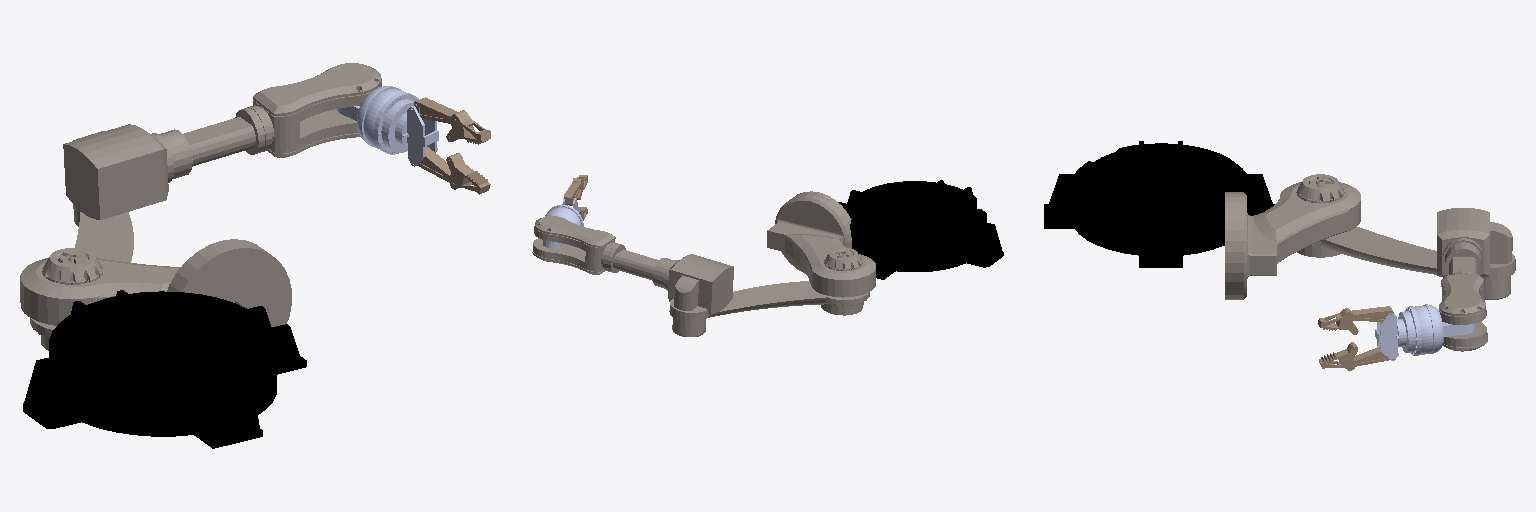
The robot description file, URDF, robot "Assem1":
<?xml version="1.0" encoding="utf-8"?>
<!-- This URDF was automatically created by SolidWorks to URDF Exporter! Originally created by [author] ([email redacted]) 
     Commit Version: 1.6.0-4-g7f85cfe  Build Version: 1.6.7995.38578
     For more information, please see http://wiki.ros.org/sw_urdf_exporter -->
<robot
  name="Assem1">
  <link
    name="base_link">
    <inertial>
      <origin
        xyz="0.001428 -0.045297 -0.0014391"
        rpy="0 0 0" />
      <mass
        value="5.7739" />
      <inertia
        ixx="0.036522"
        ixy="-3.7754E-05"
        ixz="-0.00079982"
        iyy="0.066698"
        iyz="4.1702E-05"
        izz="0.036535" />
    </inertial>
    <visual>
      <origin
        xyz="0 0 0"
        rpy="0 0 0" />
      <geometry>
        <mesh
          filename="package://Assem1/meshes/base_link.STL" />
      </geometry>
      <material
        name="">
        <color
          rgba="0 0 0 1" />
      </material>
    </visual>
    <collision>
      <origin
        xyz="0 0 0"
        rpy="0 0 0" />
      <geometry>
        <mesh
          filename="package://Assem1/meshes/base_link.STL" />
      </geometry>
    </collision>
  </link>
  <link
    name="link_1">
    <inertial>
      <origin
        xyz="-0.05712 0.082882 -0.00044624"
        rpy="0 0 0" />
      <mass
        value="2.3084" />
      <inertia
        ixx="0.011917"
        ixy="0.0090859"
        ixz="-0.00019373"
        iyy="0.016228"
        iyz="9.6387E-05"
        izz="0.023784" />
    </inertial>
    <visual>
      <origin
        xyz="0 0 0"
        rpy="0 0 0" />
      <geometry>
        <mesh
          filename="package://Assem1/meshes/link_1.STL" />
      </geometry>
      <material
        name="">
        <color
          rgba="0.64706 0.61961 0.58824 1" />
      </material>
    </visual>
    <collision>
      <origin
        xyz="0 0 0"
        rpy="0 0 0" />
      <geometry>
        <mesh
          filename="package://Assem1/meshes/link_1.STL" />
      </geometry>
    </collision>
  </link>
  <joint
    name="joint_0"
    type="revolute">
    <origin
      xyz="0 0 0"
      rpy="0 0 0" />
    <parent
      link="base_link" />
    <child
      link="link_1" />
    <axis
      xyz="0 1 0" />
    <limit
      lower="-3.1416"
      upper="3.1416"
      effort="1"
      velocity="1" />
  </joint>
  <link
    name="link_2">
    <inertial>
      <origin
        xyz="-0.1403 0.033781 0.0083789"
        rpy="0 0 0" />
      <mass
        value="0.91528" />
      <inertia
        ixx="0.00061079"
        ixy="-7.9026E-05"
        ixz="0.00017358"
        iyy="0.017867"
        iyz="3.1113E-05"
        izz="0.017533" />
    </inertial>
    <visual>
      <origin
        xyz="0 0 0"
        rpy="0 0 0" />
      <geometry>
        <mesh
          filename="package://Assem1/meshes/link_2.STL" />
      </geometry>
      <material
        name="">
        <color
          rgba="0.64706 0.61961 0.58824 1" />
      </material>
    </visual>
    <collision>
      <origin
        xyz="0 0 0"
        rpy="0 0 0" />
      <geometry>
        <mesh
          filename="package://Assem1/meshes/link_2.STL" />
      </geometry>
    </collision>
  </link>
  <joint
    name="joint_1"
    type="revolute">
    <origin
      xyz="-0.15 0.16 -0.01"
      rpy="-1.5249 0.0328 -2.1913" />
    <parent
      link="link_1" />
    <child
      link="link_2" />
    <axis
      xyz="0 1 0" />
    <limit
      lower="-3.14159"
      upper="3.14159"
      effort="1"
      velocity="1" />
  </joint>
  <link
    name="link_3">
    <inertial>
      <origin
        xyz="0.12279 0.040671 -0.029857"
        rpy="0 0 0" />
      <mass
        value="1.9287" />
      <inertia
        ixx="0.0023751"
        ixy="-0.00028092"
        ixz="8.3105E-05"
        iyy="0.0084066"
        iyz="0.0001306"
        izz="0.0086275" />
    </inertial>
    <visual>
      <origin
        xyz="0 0 0"
        rpy="0 0 0" />
      <geometry>
        <mesh
          filename="package://Assem1/meshes/link_3.STL" />
      </geometry>
      <material
        name="">
        <color
          rgba="0.64706 0.61961 0.58824 1" />
      </material>
    </visual>
    <collision>
      <origin
        xyz="0 0 0"
        rpy="0 0 0" />
      <geometry>
        <mesh
          filename="package://Assem1/meshes/link_3.STL" />
      </geometry>
    </collision>
  </link>
  <joint
    name="joint_2"
    type="revolute">
    <origin
      xyz="-0.35014 0.001494 0.00019501"
      rpy="1.5708 -0.94986 3.1416" />
    <parent
      link="link_2" />
    <child
      link="link_3" />
    <axis
      xyz="0 0 1" />
    <limit
      lower="-3.14159"
      upper="3.14159"
      effort="1"
      velocity="1" />
  </joint>
  <link
    name="link_4">
    <inertial>
      <origin
        xyz="0.030437 -5.5511E-17 0.06989"
        rpy="0 0 0" />
      <mass
        value="0.39086" />
      <inertia
        ixx="0.00034998"
        ixy="3.9892E-07"
        ixz="-2.8308E-06"
        iyy="0.00035244"
        iyz="-1.9058E-21"
        izz="0.00026128" />
    </inertial>
    <visual>
      <origin
        xyz="0 0 0"
        rpy="0 0 0" />
      <geometry>
        <mesh
          filename="package://Assem1/meshes/link_4.STL" />
      </geometry>
      <material
        name="">
        <color
          rgba="0.79216 0.81961 0.93333 1" />
      </material>
    </visual>
    <collision>
      <origin
        xyz="0 0 0"
        rpy="0 0 0" />
      <geometry>
        <mesh
          filename="package://Assem1/meshes/link_4.STL" />
      </geometry>
    </collision>
  </link>
  <joint
    name="joint_3"
    type="revolute">
    <origin
      xyz="0.35909 0.043643 0.0018034"
      rpy="0.25066 1.5295 1.5708" />
    <parent
      link="link_3" />
    <child
      link="link_4" />
    <axis
      xyz="1 0 0" />
    <limit
      lower="-3.14159"
      upper="3.14159"
      effort="1"
      velocity="1" />
  </joint>
  <link
    name="link_4_1">
    <inertial>
      <origin
        xyz="-0.00201523444930629 -0.0512979391157485 -0.0173777755512622"
        rpy="0 0 0" />
      <mass
        value="0.0396600133698899" />
      <inertia
        ixx="4.75126658830672E-05"
        ixy="-9.40140397003269E-20"
        ixz="-2.32404664902899E-20"
        iyy="6.34775374045926E-06"
        iyz="-9.98225319243845E-06"
        izz="4.32691865333049E-05" />
    </inertial>
    <visual>
      <origin
        xyz="0 0 0"
        rpy="0 0 0" />
      <geometry>
        <mesh
          filename="package://Assem1/meshes/link_4_1.STL" />
      </geometry>
      <material
        name="">
        <color
          rgba="0.690196078431373 0.611764705882353 0.529411764705882 1" />
      </material>
    </visual>
    <collision>
      <origin
        xyz="0 0 0"
        rpy="0 0 0" />
      <geometry>
        <mesh
          filename="package://Assem1/meshes/link_4_1.STL" />
      </geometry>
    </collision>
  </link>
  <joint
    name="joint_4_1"
    type="revolute">
    <origin
      xyz="0.071146 -0.0047021 0.12689"
      rpy="-1.7835 0 -1.6368" />
    <parent
      link="link_4" />
    <child
      link="link_4_1" />
    <axis
      xyz="1 0 0" />
    <limit
      lower="-3.14159"
      upper="3.14159"
      effort="1"
      velocity="1" />
  </joint>
  <link
    name="link_4_2">
    <inertial>
      <origin
        xyz="0.00201523444930551 -0.0512979391157487 -0.0173777755512627"
        rpy="0 0 0" />
      <mass
        value="0.0396600133698899" />
      <inertia
        ixx="4.75126658830671E-05"
        ixy="4.52765580087025E-20"
        ixz="9.82028823222954E-21"
        iyy="6.34775374045926E-06"
        iyz="-9.98225319243846E-06"
        izz="4.32691865333048E-05" />
    </inertial>
    <visual>
      <origin
        xyz="0 0 0"
        rpy="0 0 0" />
      <geometry>
        <mesh
          filename="package://Assem1/meshes/link_4_2.STL" />
      </geometry>
      <material
        name="">
        <color
          rgba="0.690196078431373 0.611764705882353 0.529411764705882 1" />
      </material>
    </visual>
    <collision>
      <origin
        xyz="0 0 0"
        rpy="0 0 0" />
      <geometry>
        <mesh
          filename="package://Assem1/meshes/link_4_2.STL" />
      </geometry>
    </collision>
  </link>
  <joint
    name="joint_4_2"
    type="revolute">
    <origin
      xyz="-0.010296 0.00068045 0.12689"
      rpy="-1.8249 0 1.5048" />
    <parent
      link="link_4" />
    <child
      link="link_4_2" />
    <axis
      xyz="1 0 0" />
    <limit
      lower="-3.14159"
      upper="3.14159"
      effort="1"
      velocity="1" />
    <mimic
      joint="joint_4_1"
      multiplier="-1"
      offset="0" />
  </joint>
</robot>

--- Facts derived from the render (not from the file) ---
Views: 3 orthographic renders of the robot side by side, from view 1: azimuth 30°, elevation 25°; view 2: azimuth 150°, elevation 25°; view 3: azimuth 270°, elevation 25°.
Model Assem1 with 7 links and 6 joints (6 revolute), rooted at base_link, posed every joint at zero.
Links seen in each view (by area): view 1: base_link, link_3, link_1, link_4, link_2, link_4_2, link_4_1; view 2: base_link, link_3, link_1, link_2, link_4; view 3: base_link, link_1, link_3, link_2, link_4, link_4_1, link_4_2.
Boxes of the visible links, x1,y1,x2,y2 form: base_link: (23, 290, 306, 448); link_3: (63, 63, 381, 219); link_1: (20, 239, 291, 326); link_4: (337, 86, 438, 166); link_2: (30, 204, 133, 350); link_4_2: (417, 146, 490, 194); link_4_1: (414, 97, 490, 144); base_link: (838, 180, 1003, 279); link_3: (532, 216, 733, 321); link_1: (767, 191, 875, 297); link_2: (672, 281, 869, 336); link_4: (543, 198, 583, 248); base_link: (1044, 141, 1274, 267); link_1: (1225, 174, 1360, 299); link_3: (1437, 208, 1515, 351); link_2: (1297, 227, 1510, 299); link_4: (1375, 304, 1474, 360); link_4_1: (1318, 306, 1393, 334); link_4_2: (1319, 342, 1392, 370).
Bounding box of the posed robot: 0.8462 × 0.79 × 0.1868 m (x, y, z).
7 mesh visuals loaded from 7 distinct referenced files (7 binary STL).